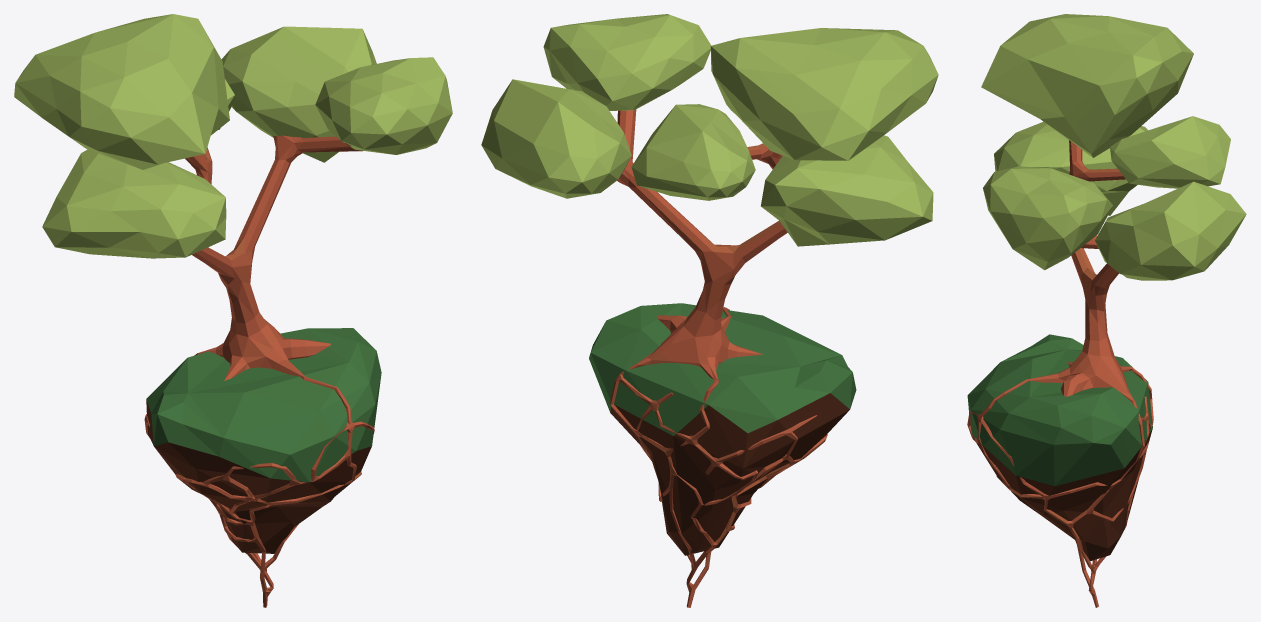
Rendered from flying_island.fbx.
3 views of the same model, side by side, from view 1: azimuth 30°, elevation 25°; view 2: azimuth 150°, elevation 25°; view 3: azimuth 270°, elevation 25° (orthographic). The views are drawn at different scales.
Visible parts, largest first — view 1: Icosphere.001; view 2: Icosphere.001; view 3: Icosphere.001.
Part boxes in pixels (x1,y1,x2,y2): Icosphere.001: (14, 14, 452, 607); Icosphere.001: (481, 14, 938, 607); Icosphere.001: (967, 14, 1246, 607).
Bounding box in the file's own units: 330 × 482 × 234.
